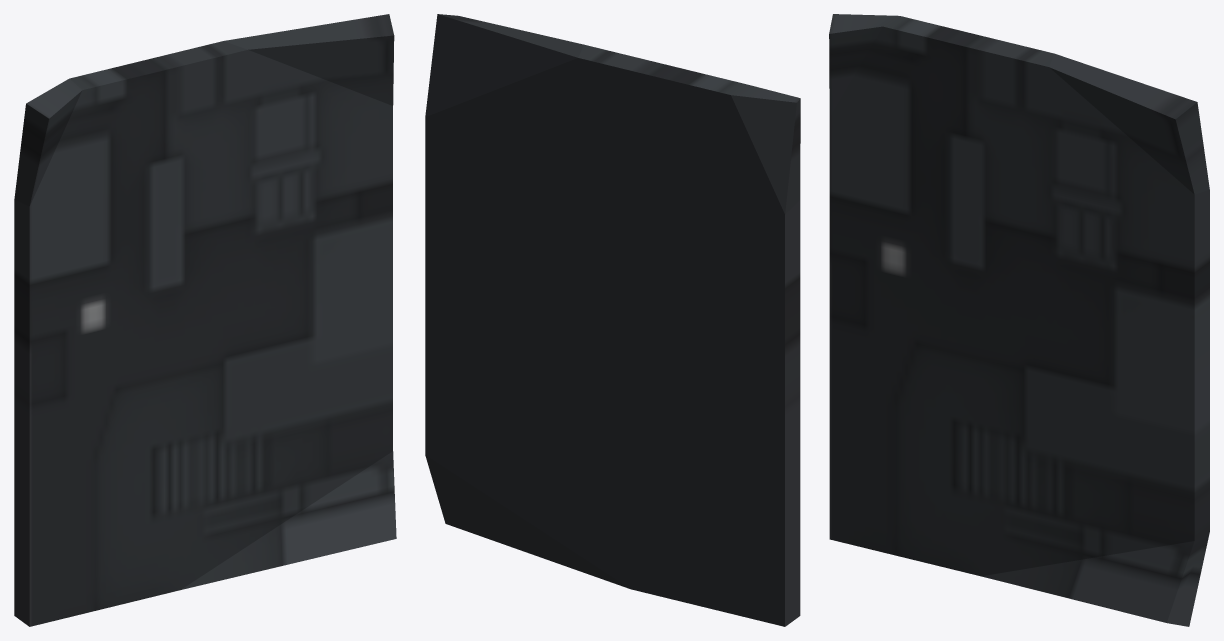
The model's file is child-art.glb.
The picture shows the model from 3 angles, left to right: view 1: azimuth 30°, elevation 25°; view 2: azimuth 150°, elevation 25°; view 3: azimuth 330°, elevation 25°; orthographic projection.
Parts seen in each view (by area): view 1: child-art-col; view 2: child-art-col; view 3: child-art-col.
Boxes of the visible parts, box(x1,y1,x2,y2) form: child-art-col: box(14, 14, 396, 626); child-art-col: box(425, 14, 800, 626); child-art-col: box(829, 14, 1209, 626).
Bounding box in the file's own units: 0.3443 × 0.4739 × 0.0505.
Materials: 1 (1 with a texture image).
